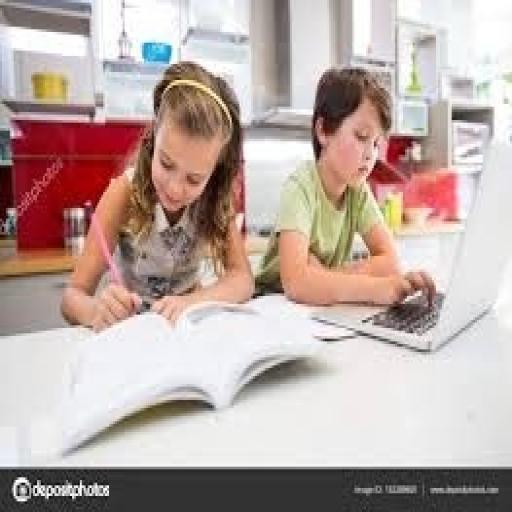using_laptop: (310, 130, 510, 354)
